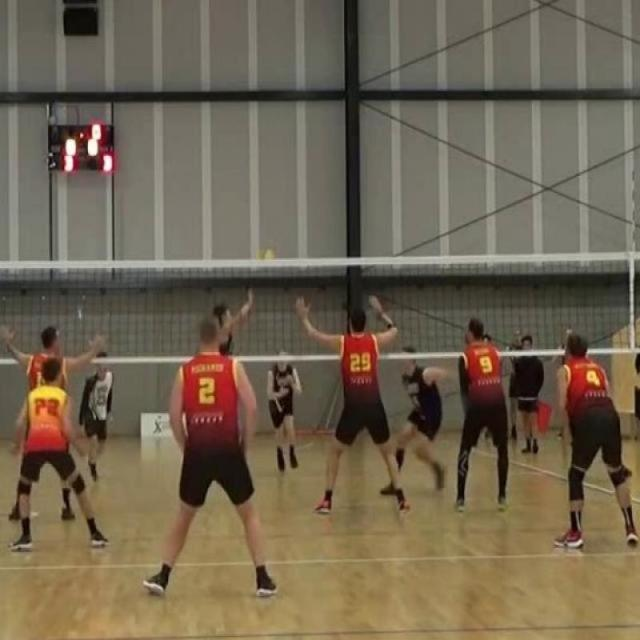volleyball: (254, 245, 279, 260)
